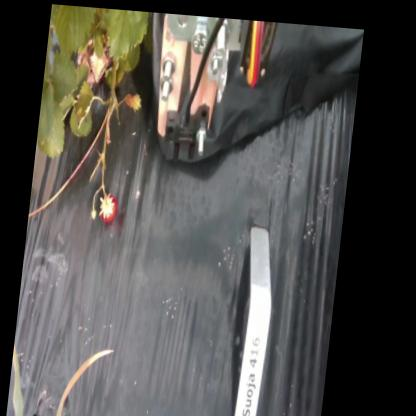ripe: (99, 187, 129, 230)
